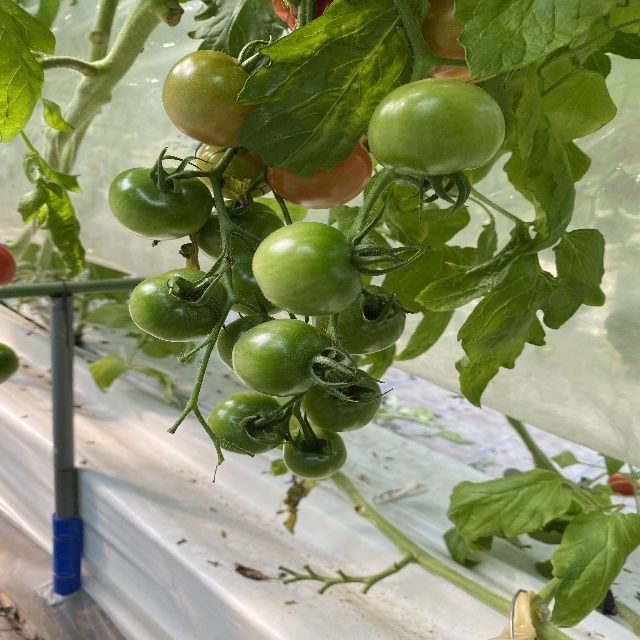l_green: (366, 78, 506, 177), (189, 200, 284, 316), (252, 222, 363, 317), (161, 50, 263, 148), (232, 318, 335, 397), (107, 167, 214, 241), (129, 269, 229, 343), (311, 284, 406, 355), (298, 367, 383, 433), (207, 391, 289, 456), (283, 426, 348, 480), (216, 315, 276, 373)
l_half_ripened: (267, 140, 372, 209), (195, 145, 273, 200)
